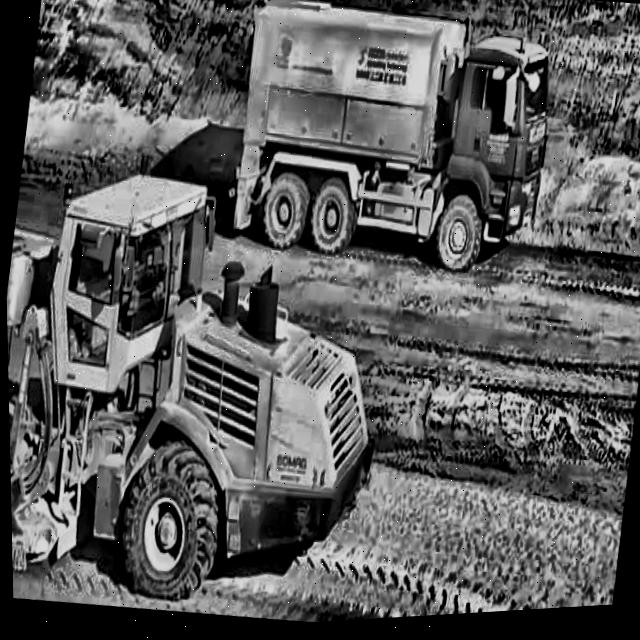dump_truck: (209, 0, 567, 304)
